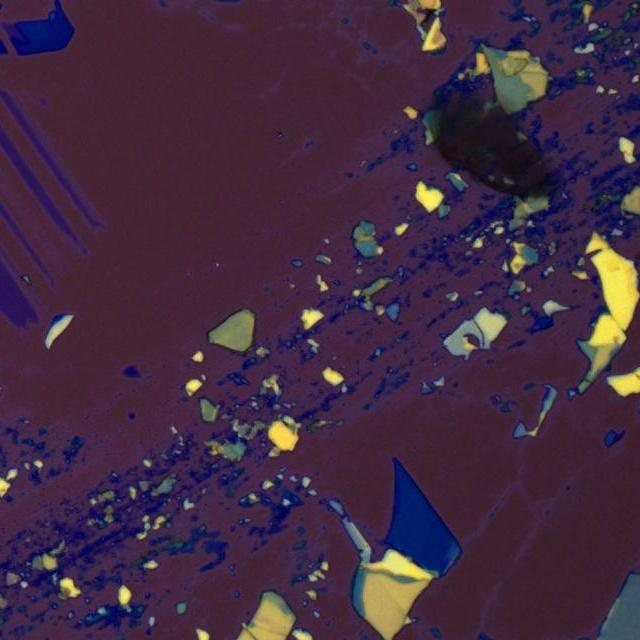monolayer-eWW4: (12, 93, 101, 223)
